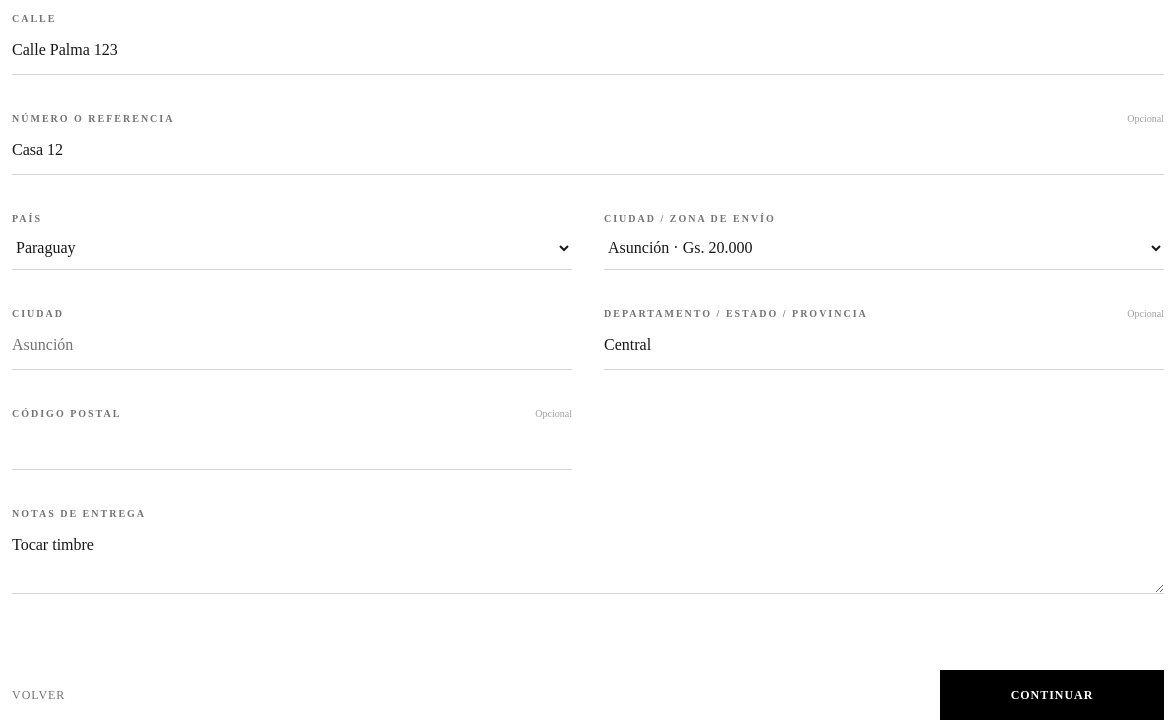
it: ShippingStep › rejects a postal code with unsupported characters
(page scrolled)
Step 1. Type "12<3>" into the field labelled "Código postal Opcional" → (292, 446), box [12,421,572,470]
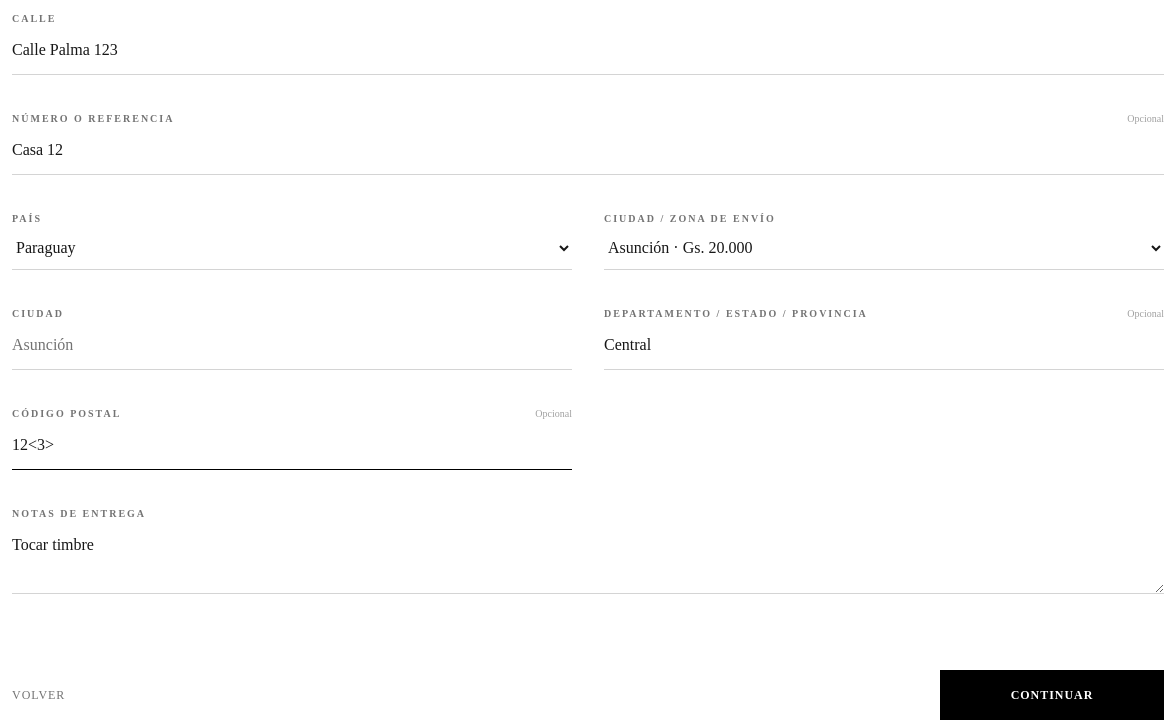
Step 2. Click the button "Continuar" → click(1052, 695), box [940,670,1164,719]
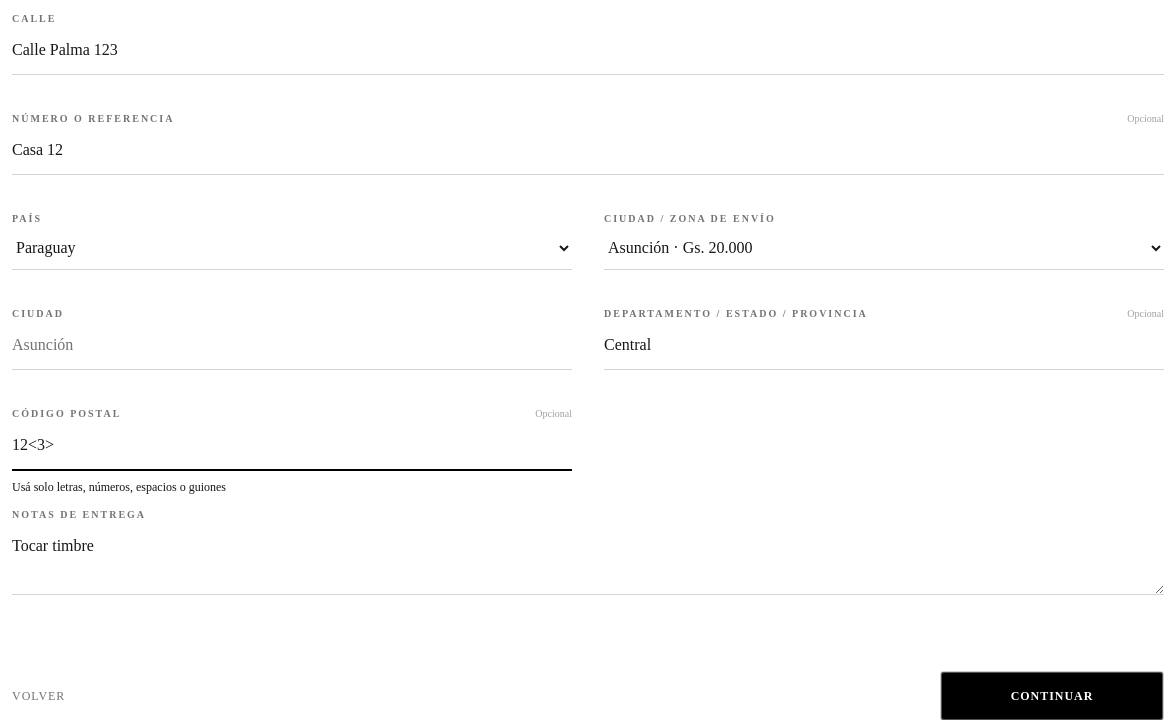
Check: the text "Usá solo letras, números, espacios o guiones" is shown, box [12,480,226,494]
